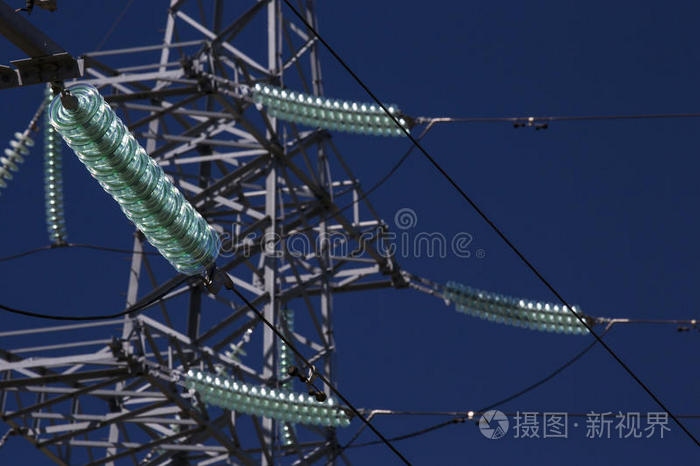insulator: (54, 81, 224, 277), (183, 369, 354, 427), (246, 81, 406, 139), (444, 280, 592, 337), (42, 125, 67, 244), (1, 131, 33, 185)
